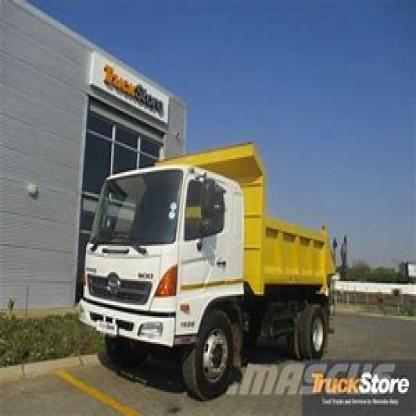dump_truck: (75, 135, 356, 397)
